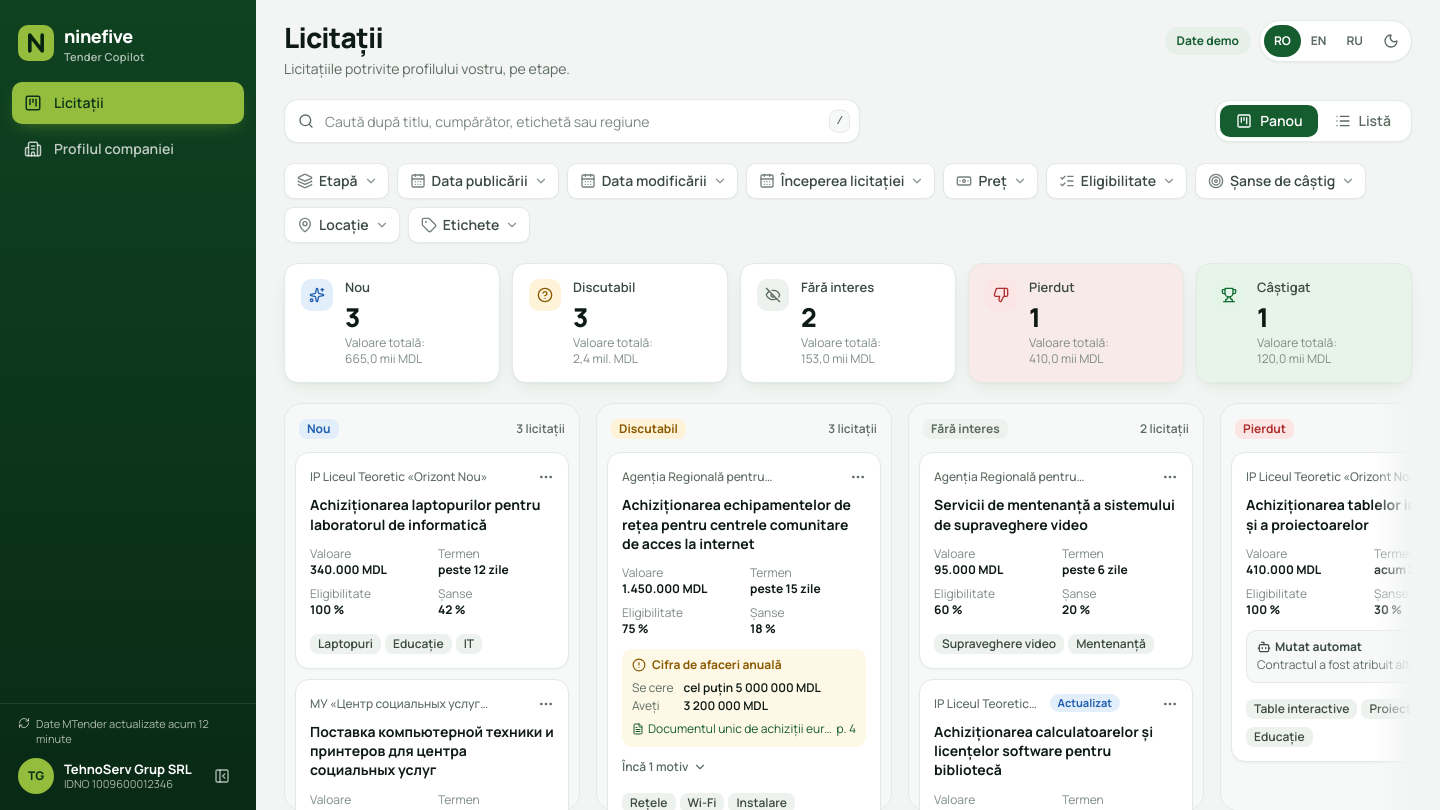
Test: list view › shows every tender as a table row and remembers the choice
The width and height of the screenshot is (1440, 810).
Expected: the link "Achiziționarea echipamentelor de rețea pentru centrele comunitare de acces la internet" is shown, left=622, top=495, right=851, bottom=553
Click the button "Listă". click: (1363, 121)
box: left=1318, top=105, right=1407, bottom=137
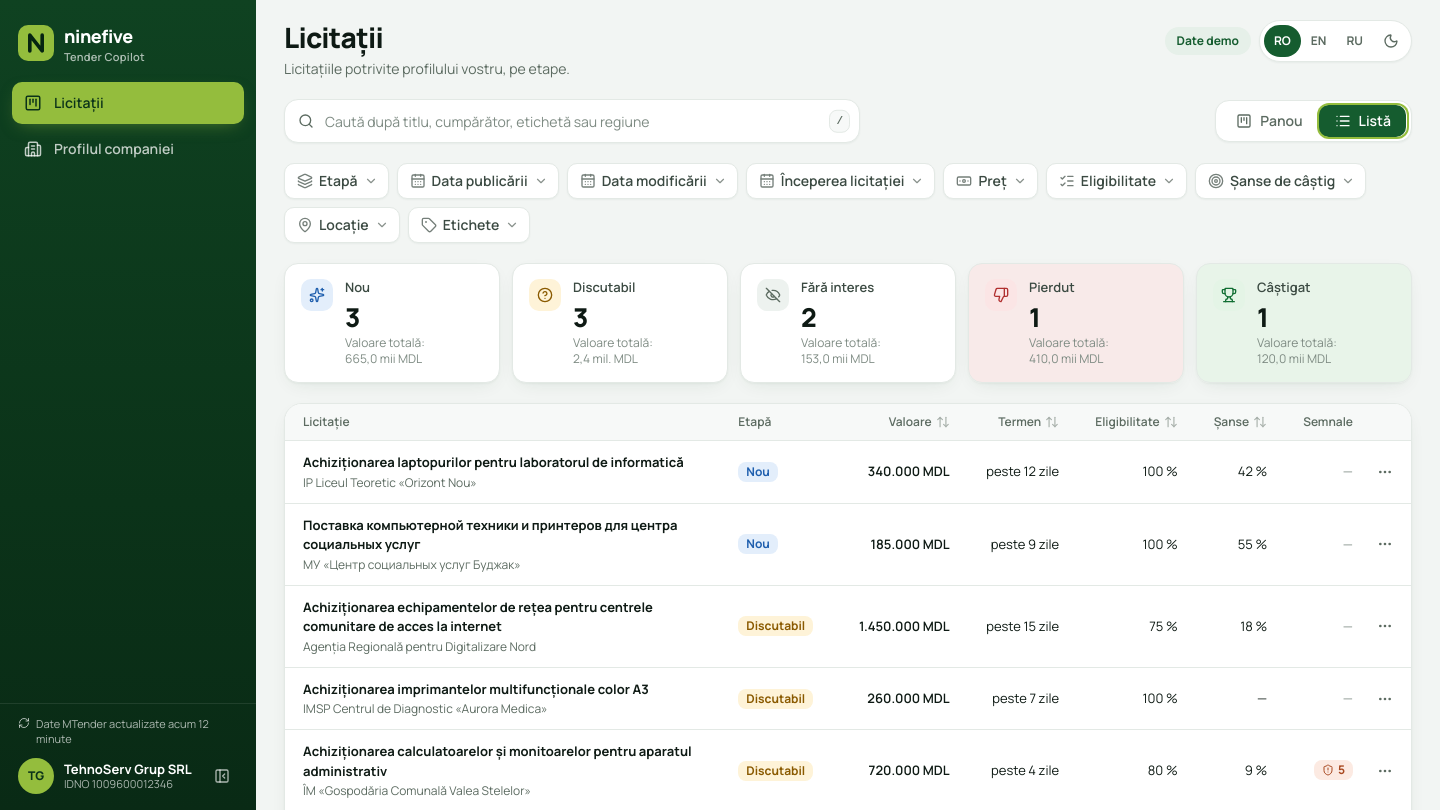
Now the number of rows is 11
